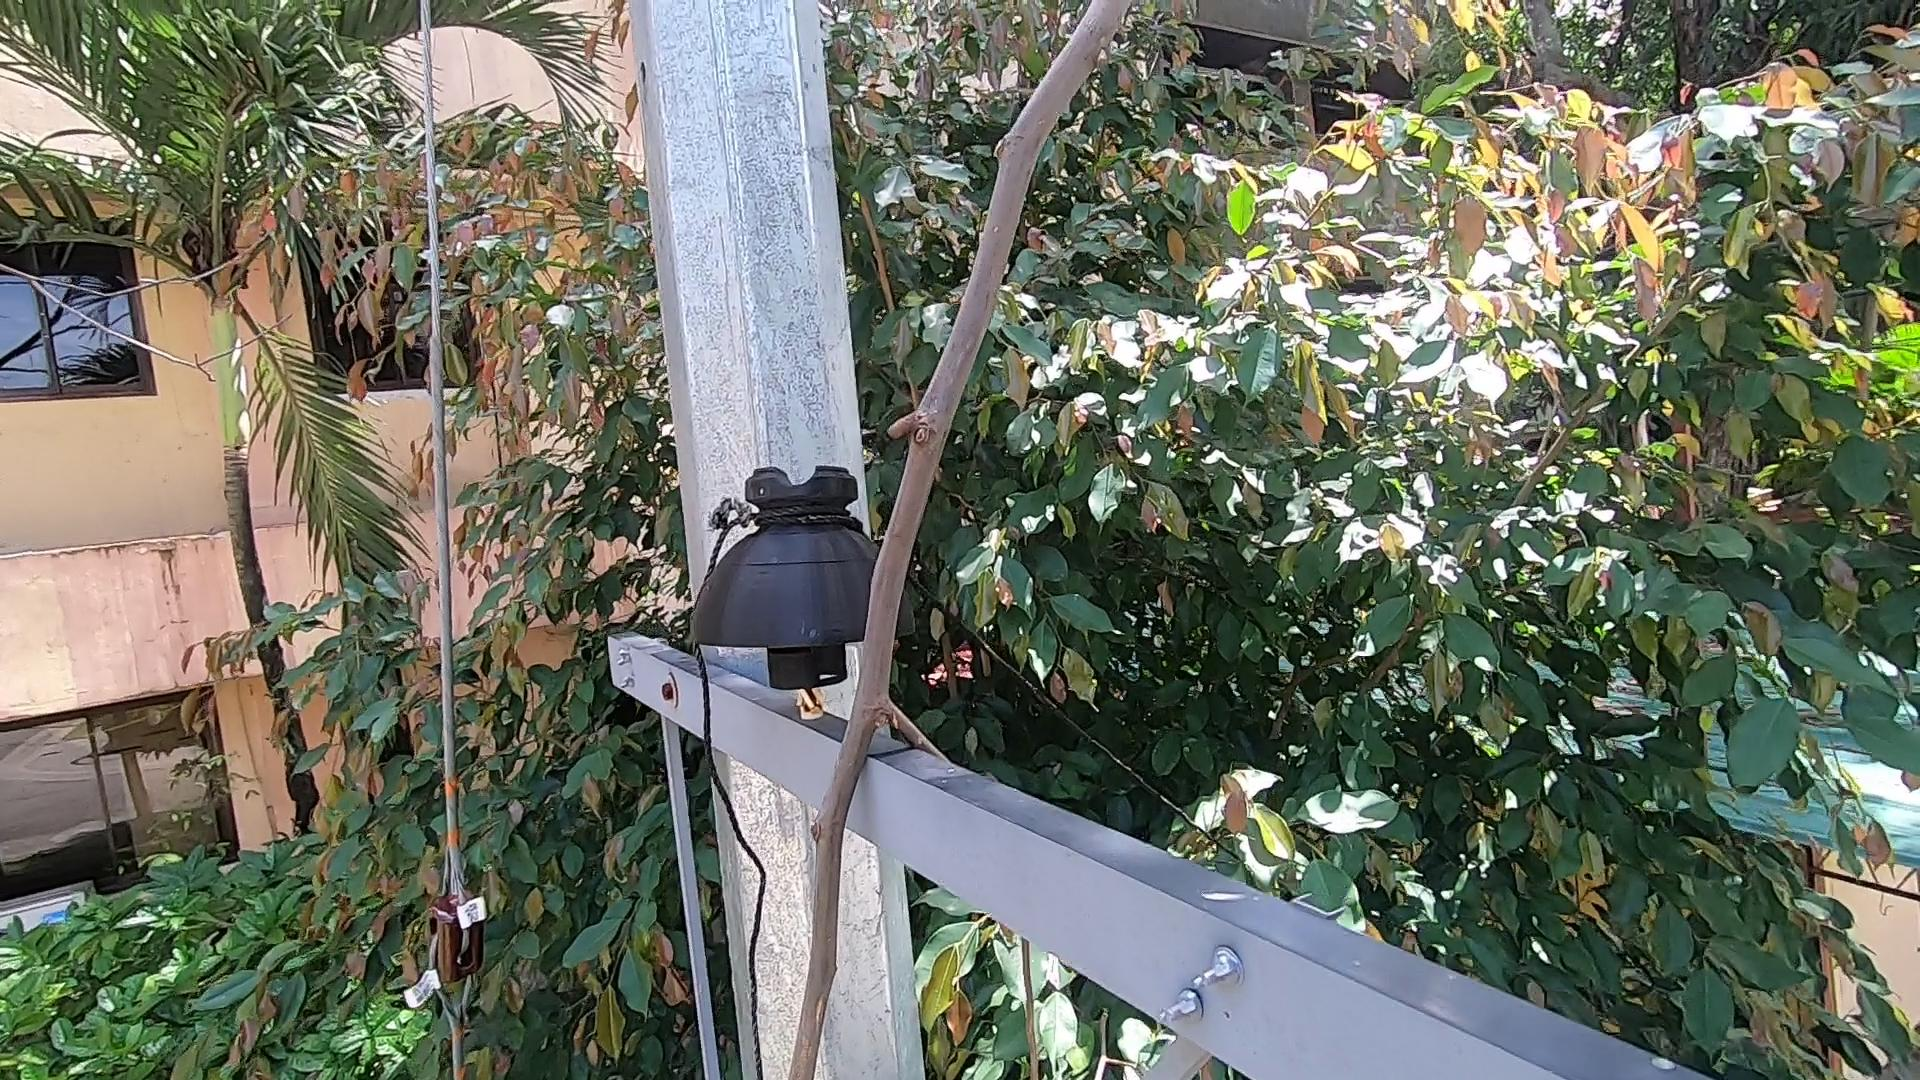tree branch: (745, 21, 1069, 1075)
